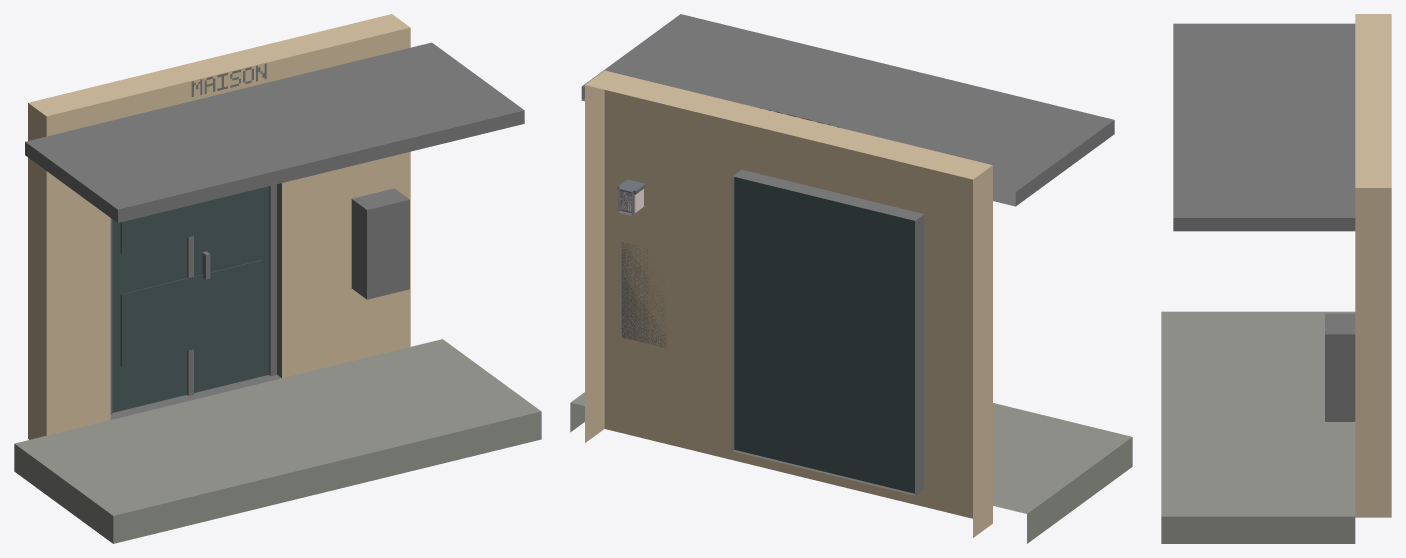
File: entrance_close.fbx
The picture shows the model from 3 angles, left to right: view 1: azimuth 30°, elevation 25°; view 2: azimuth 150°, elevation 25°; view 3: azimuth 270°, elevation 25°; orthographic projection. The views are drawn at different scales.
Parts seen in each view (by area): view 1: a2001/200/entrance_close; view 2: a2001/200/entrance_close; view 3: a2001/200/entrance_close.
Boxes of the visible parts, left/top/right/bottom form: a2001/200/entrance_close: left=14, top=14, right=541, bottom=543; a2001/200/entrance_close: left=570, top=14, right=1132, bottom=543; a2001/200/entrance_close: left=1161, top=14, right=1391, bottom=543.
Bounding box in the file's own units: 4 × 3.1 × 1.9.
